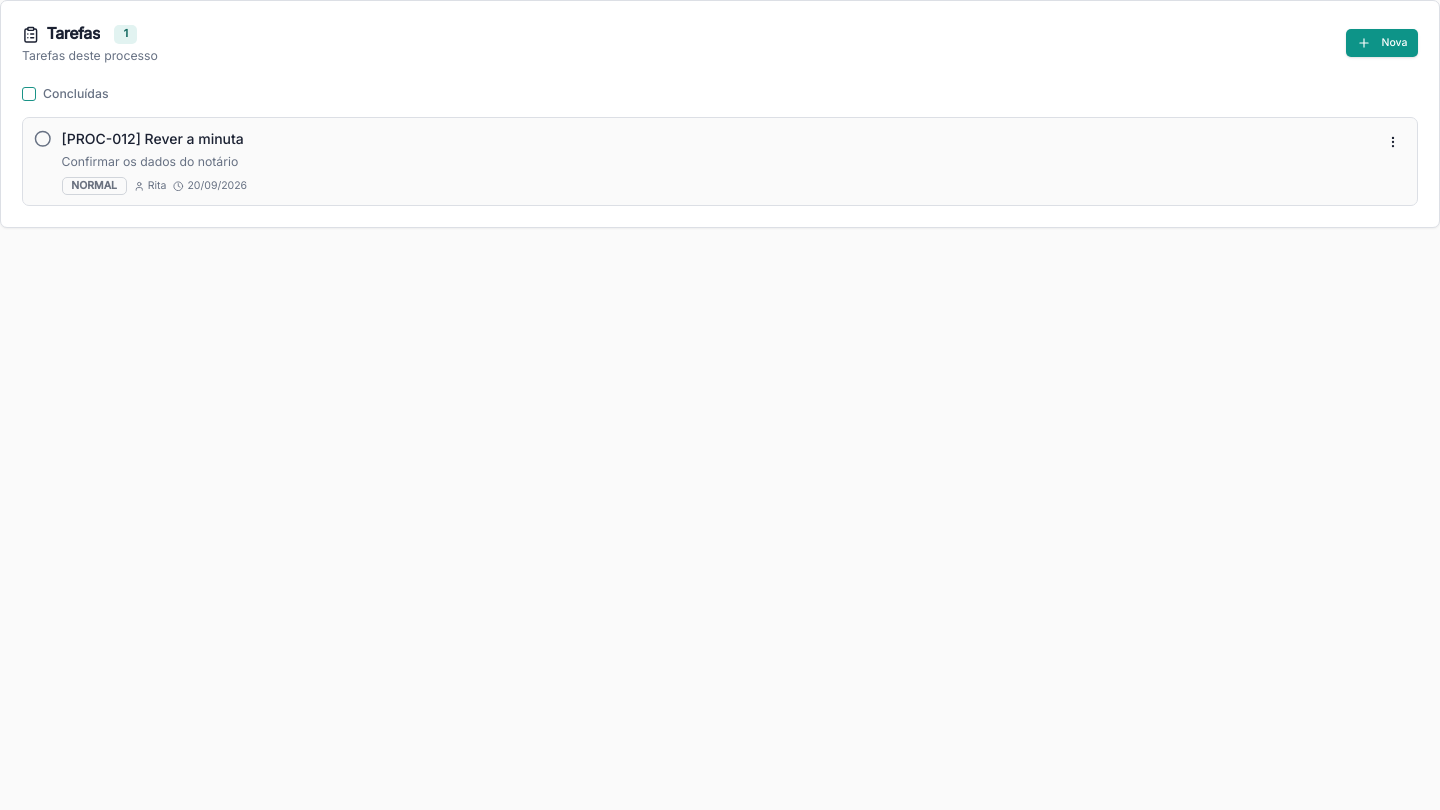
Test: O selector de responsáveis › não cai silenciosamente para o staff todo quando o processo falha
The width and height of the screenshot is (1440, 810).
What coordinates should you click on to do the following:
click the button with aria-label "nova tarefa"
I would click on:
 (1382, 43)
Its box is [1346,29,1418,57].
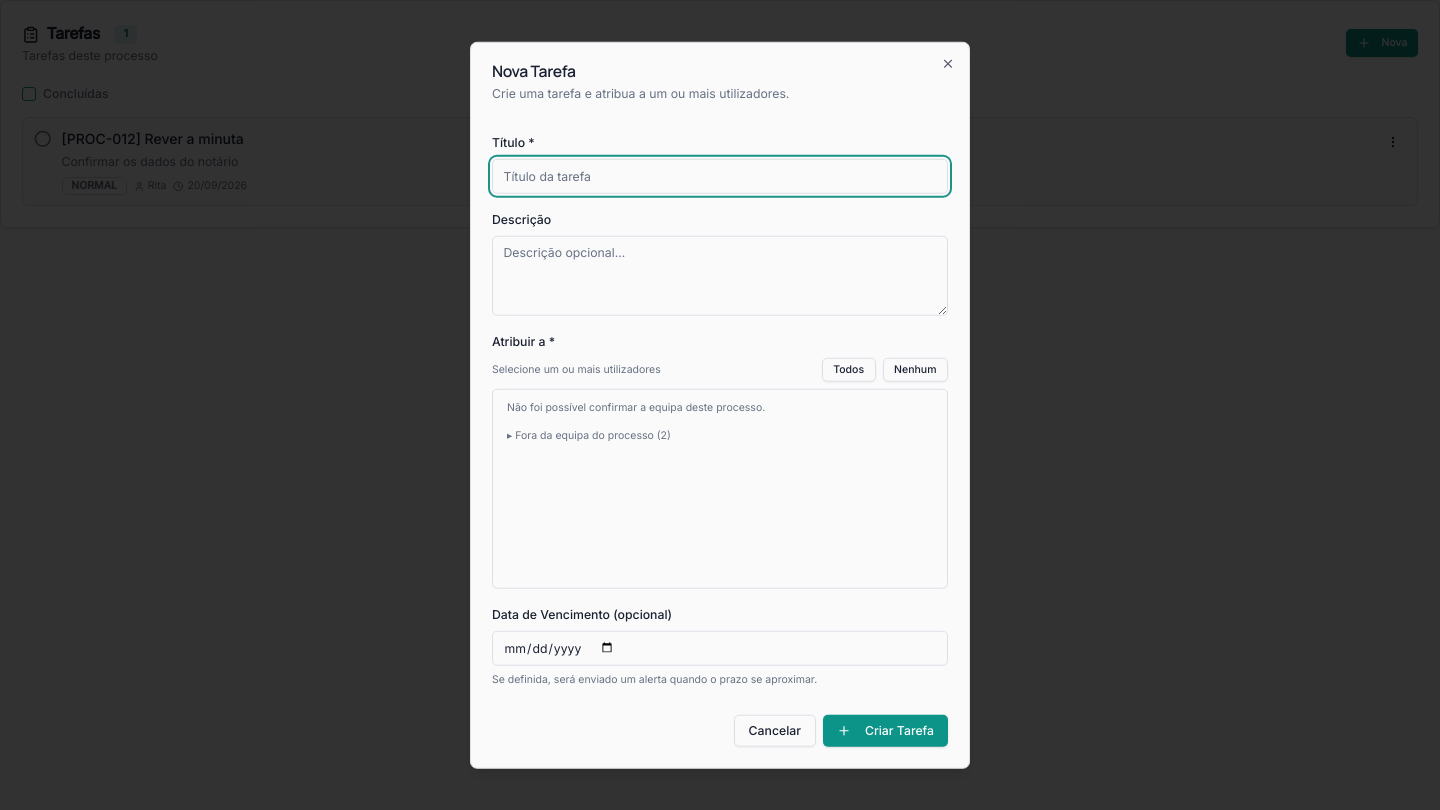
Result: the dialog is shown at [470,42,970,768]
Result: the button "▸ Fora da equipa do processo (2)" is shown at [500,425,940,446]
